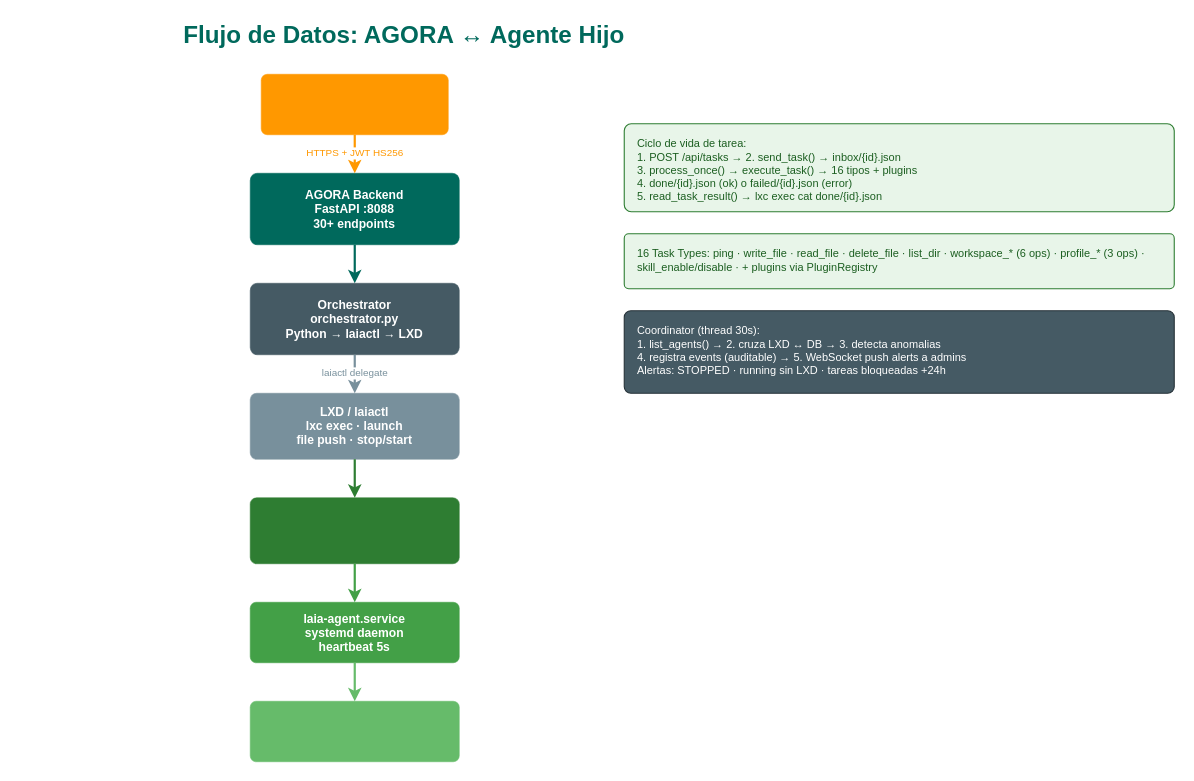
Image size: 1194x781. Some labels were removed from this diagram. Here are the shapes that lost their labels. From the top down, the centre of each, then its label:
the point at 354,104: Usuario (admin o empleado)
the point at 354,530: Contenedor Hijo laia-{usuario} Unprivileged · CPU2 · RAM4GB
the point at 354,731: Task Inbox /opt/laia/data/tasks/ inbox/ · done/ · failed/
